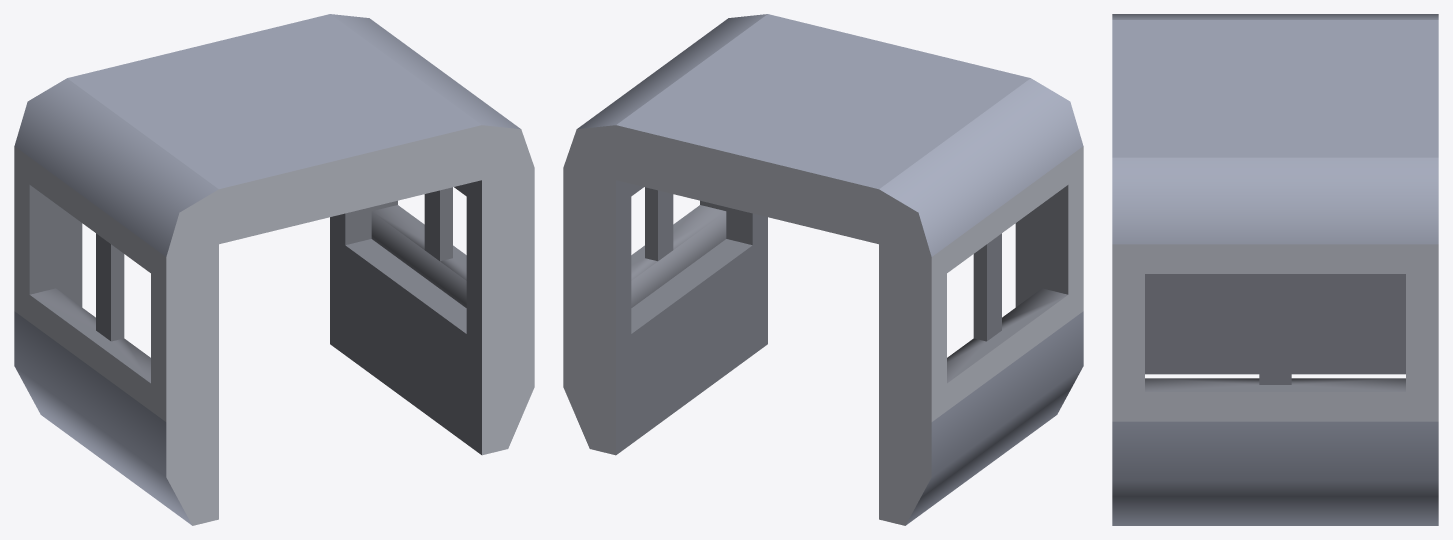
Rendered from cover-bar.fbx.
3 views of the same model, side by side, from view 1: azimuth 30°, elevation 25°; view 2: azimuth 150°, elevation 25°; view 3: azimuth 270°, elevation 25° (orthographic). The views are drawn at different scales.
Parts seen in each view (by area): view 1: cover-bar; view 2: cover-bar; view 3: cover-bar.
Part boxes in pixels (x1,y1,x2,y2): cover-bar: [14, 14, 534, 525]; cover-bar: [563, 14, 1083, 525]; cover-bar: [1112, 14, 1438, 525].
Size of the model in its own units: 140 by 120 by 100.
